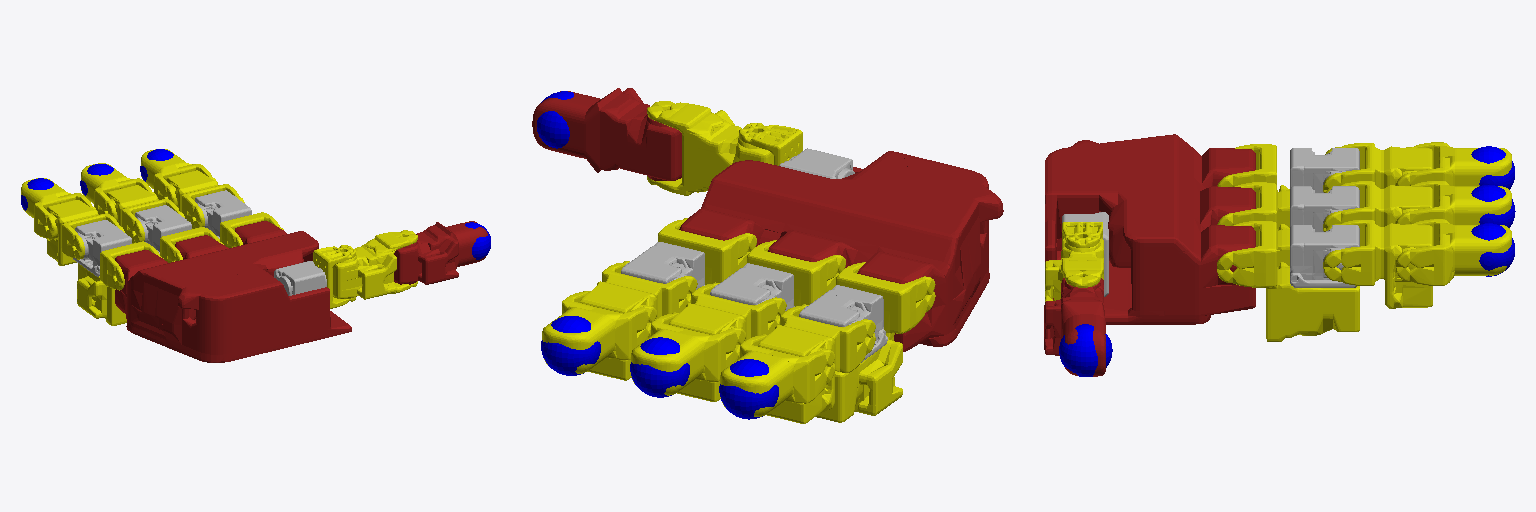
URDF robot description (onshape):
<robot name="onshape">
<link name="world"/>
<joint name="world_to_palm" type="fixed">
<parent link="world"/>
<child link="palm_lower"/>
<origin xyz="0.037 0.05 -0.037" rpy="-3.141592653589793 0 1.5707963267948966" />
</joint>


<link name="palm_lower">
<visual>
<origin xyz="-0.020095249652862544332 0.025757756134899473244 -0.034722403578460216134" rpy="0 -0 0" />
<geometry>
<mesh filename="palm_lower.obj"/>
</geometry>
<material name="palm_lower_material">
<color rgba="0.60392156862745094426 0.14901960784313725283 0.14901960784313725283 1.0"/>
</material>
</visual>
<collision>
<origin xyz="-0.020095249652862544332 0.025757756134899473244 -0.034722403578460216134" rpy="0 -0 0" />
<geometry>
<mesh filename="palm_lower.obj"/>
</geometry>
</collision>
<inertial>
<origin xyz="0 0 0" rpy="0 0 0"/>
<mass value="0.237" />
<inertia ixx="0.000354094" ixy="-0.000001193"  ixz="-0.000002445" iyy="0.000260915" iyz="-0.000002905" izz="0.000529257" />
</inertial>
</link>

<link name="mcp_joint">
<visual>
<origin xyz="0.0084069022611744960438 0.0077662438597169954416 0.014657354985032912051" rpy="1.6375789613220999807e-15 -1.0210473302491019535e-30 1.7177968783327987474e-31" />
<geometry>
<mesh filename="mcp_joint.obj"/>
</geometry>
<material name="mcp_joint_material">
<color rgba="0.86666666666666669627 0.86666666666666669627 0.050980392156862744391 1.0"/>
</material>
</visual>
<collision>
<origin xyz="0.0084069022611744960438 0.0077662438597169954416 0.014657354985032912051" rpy="1.6375789613220999807e-15 -1.0210473302491019535e-30 1.7177968783327987474e-31" />
<geometry>
<mesh filename="mcp_joint.obj"/>
</geometry>
</collision>
<inertial>
<origin xyz="0 0 0" rpy="0 0 0"/>
<mass value="0.044" />
<inertia ixx="0.000011499" ixy="0.000003049"  ixz="0.000000121" iyy="0.000007796" iyz="0.000000112" izz="0.000014759" />
</inertial>
</link>

<link name="pip">
<visual>
<origin xyz="0.0096433630922713280131 0.00029999999999998951117 0.00078403401041737645627" rpy="-1.570796326794896558 -1.570796326794896336 0" />
<geometry>
<mesh filename="pip.obj"/>
</geometry>
<material name="pip_material">
<color rgba="0.74901960784313725839 0.74901960784313725839 0.74901960784313725839 1.0"/>
</material>
</visual>
<collision>
<origin xyz="0.0096433630922713280131 0.00029999999999998951117 0.00078403401041737645627" rpy="-1.570796326794896558 -1.570796326794896336 0" />
<geometry>
<mesh filename="pip.obj"/>
</geometry>
</collision>
<inertial>
<origin xyz="0 0 0" rpy="0 0 0"/>
<mass value="0.032" />
<inertia ixx="0.000004798" ixy="0.000000012"  ixz="0.000000004" iyy="0.000002862" iyz="0.000000011" izz="0.000004234" />
</inertial>
</link>

<link name="dip">
<visual>
<origin xyz="0.021133352895225002849 -0.0084321191467048792201 0.0097850881620952408213" rpy="-3.141592653589793116 4.5075111242164408299e-32 4.4395481053923607589e-32" />
<geometry>
<mesh filename="dip.obj"/>
</geometry>
<material name="dip_material">
<color rgba="0.86666666666666669627 0.86666666666666669627 0.050980392156862744391 1.0"/>
</material>
</visual>
<collision>
<origin xyz="0.021133352895225002849 -0.0084321191467048792201 0.0097850881620952408213" rpy="-3.141592653589793116 4.5075111242164408299e-32 4.4395481053923607589e-32" />
<geometry>
<mesh filename="dip.obj"/>
</geometry>
</collision>
<inertial>
<origin xyz="0 0 0" rpy="0 0 0"/>
<mass value="0.037" />
<inertia ixx="0.000005542" ixy="-0.000000607"  ixz="-0.000000017" iyy="0.000005727" iyz="-0.000000023" izz="0.000006682" />
</inertial>
</link>

<link name="fingertip">
<visual>
<origin xyz="0.013286424108533503169 -0.0061142383865419869249 0.014499999999999497666" rpy="3.141592653589793116 1.1993117970061734707e-33 4.4395481053923607589e-32" />
<geometry>
<mesh filename="fingertip.obj"/>
</geometry>
<material name="fingertip_material">
<color rgba="0.86666666666666669627 0.86666666666666669627 0.050980392156862744391 1.0"/>
</material>
</visual>
<!-- <collision>
<origin xyz="0.013286424108533503169 -0.0061142383865419869249 0.014499999999999497666" rpy="3.141592653589793116 1.1993117970061734707e-33 4.4395481053923607589e-32" />
<geometry>
<mesh filename="fingertip.obj"/>
</geometry>
</collision> -->
<inertial>
<origin xyz="0 0 0" rpy="0 0 0"/>
<mass value="0.016" />
<inertia ixx="0.000003368" ixy="0.000000115"  ixz="0" iyy="0.000001556" iyz="0" izz="0.000002863" />
</inertial>
</link>

<joint name="0" type="revolute">
<origin xyz="-0.012200000000000007713 0.038099999999999994982 0.014500000000000000736" rpy="-1.570796326794896558 -1.0065212660796336576e-15 1.5707963267948943376" />
<parent link="mcp_joint" />
<child link="pip" />
<axis xyz="0 0 -1"/>
<limit effort="0.95" velocity="8.48" lower = "-1.047" upper = "1.047"/>
<joint_properties friction="0.0"/>
</joint>

<joint name="1" type="revolute">
<origin xyz="-0.0070952496528625457958 0.023057756134899472233 -0.01872240357846021927" rpy="1.5707963267948950037 1.5707963267948945596 0" />
<parent link="palm_lower" />
<child link="mcp_joint" />
<axis xyz="0 0 -1"/>
<limit effort="0.95" velocity="8.48" lower = "-0.314" upper = "2.23"/>
<joint_properties friction="0.0"/>
</joint>

<joint name="2" type="revolute">
<origin xyz="0.01499999999999996822 0.014299999999999904801 -0.012999999999999824196" rpy="1.5707963267948958919 -1.570796326794896336 0" />
<parent link="pip" />
<child link="dip" />
<axis xyz="0 0 -1"/>
<limit effort="0.95" velocity="8.48" lower = "-0.506" upper = "1.885"/>  
<joint_properties friction="0.0"/>
</joint>

<joint name="3" type="revolute">
<origin xyz="-4.0880582495572692636e-09 -0.036100004210367367397 0.00020000000000007858714" rpy="4.5935029425113685044e-17 -2.8730071914463794583e-16 4.4395481053923607589e-32" />
<parent link="dip" />
<child link="fingertip" />
<axis xyz="0 0 -1"/>
<limit effort="0.95" velocity="8.48" lower = "-0.366" upper = "2.042"/>   
<joint_properties friction="0.0"/>
</joint>


<link name="index_tip">
<visual>
<geometry>
<sphere radius="0.0134"/>
</geometry>
<material name="blue">
<color rgba="0.0 0.0 1.0 1.0"/>
</material>
</visual>
<collision>
<geometry>
<sphere radius="0.0134"/>
</geometry>
</collision>
<inertial>
<origin xyz="0 0 0" rpy="0 0 0"/>
<mass value="0.016" />
<inertia ixx="0.0" ixy="0.0"  ixz="0" iyy="0.0" iyz="0.0" izz="0.0" />
</inertial>
</link>

<joint name="index_tip_joint" type="fixed">
<parent link="fingertip"/>
<child link="index_tip"/>
<origin rpy="0 0 0" xyz="-0.0015 -0.0382 0.0145"/>
</joint>


<link name="mcp_joint_2">
<visual>
<origin xyz="0.0084069022611744960438 0.0077662438597169954416 0.014657354985032913786" rpy="1.6375789613220999807e-15 -1.0076465469034000467e-30 2.1209300131419907151e-61" />
<geometry>
<mesh filename="mcp_joint.obj"/>
</geometry>
<material name="mcp_joint_material">
<color rgba="0.86666666666666669627 0.86666666666666669627 0.050980392156862744391 1.0"/>
</material>
</visual>
<collision>
<origin xyz="0.0084069022611744960438 0.0077662438597169954416 0.014657354985032913786" rpy="1.6375789613220999807e-15 -1.0076465469034000467e-30 2.1209300131419907151e-61" />
<geometry>
<mesh filename="mcp_joint.obj"/>
</geometry>
</collision>
<inertial>
<origin xyz="0 0 0" rpy="0 0 0"/>
<mass value="0.044" />
<inertia ixx="0.000011499" ixy="0.000003049"  ixz="0.000000121" iyy="0.000007796" iyz="0.000000112" izz="0.000014759" />
</inertial>
</link>

<link name="pip_2">
<visual>
<origin xyz="0.0096433630922713280131 0.00029999999999999471534 0.00078403401041737645627" rpy="-1.570796326794896558 -1.570796326794896336 0" />
<geometry>
<mesh filename="pip.obj"/>
</geometry>
<material name="pip_material">
<color rgba="0.74901960784313725839 0.74901960784313725839 0.74901960784313725839 1.0"/>
</material>
</visual>
<collision>
<origin xyz="0.0096433630922713280131 0.00029999999999999471534 0.00078403401041737645627" rpy="-1.570796326794896558 -1.570796326794896336 0" />
<geometry>
<mesh filename="pip.obj"/>
</geometry>
</collision>
<inertial>
<origin xyz="0 0 0" rpy="0 0 0"/>
<mass value="0.032" />
<inertia ixx="0.000004798" ixy="0.000000012"  ixz="0.000000004" iyy="0.000002862" iyz="0.000000011" izz="0.000004234" />
</inertial>
</link>

<link name="dip_2">
<visual>
<origin xyz="0.021133352895225002849 -0.0084321191467048653423 0.0097850881620952373519" rpy="-3.141592653589793116 2.1146933785271955805e-32 1.4408183216511868558e-31" />
<geometry>
<mesh filename="dip.obj"/>
</geometry>
<material name="dip_material">
<color rgba="0.86666666666666669627 0.86666666666666669627 0.050980392156862744391 1.0"/>
</material>
</visual>
<collision>
<origin xyz="0.021133352895225002849 -0.0084321191467048653423 0.0097850881620952373519" rpy="-3.141592653589793116 2.1146933785271955805e-32 1.4408183216511868558e-31" />
<geometry>
<mesh filename="dip.obj"/>
</geometry>
</collision>
<inertial>
<origin xyz="0 0 0" rpy="0 0 0"/>
<mass value="0.037" />
<inertia ixx="0.000005542" ixy="-0.000000607"  ixz="-0.000000017" iyy="0.000005727" iyz="-0.000000023" izz="0.000006682" />
</inertial>
</link>

<link name="fingertip_2">
<visual>
<origin xyz="0.01328642410853349623 -0.0061142383865420008027 0.014499999999999495931" rpy="3.141592653589793116 -4.3179597882835943107e-33 1.4408183216511868558e-31" />
<geometry>
<mesh filename="fingertip.obj"/>
</geometry>
<material name="fingertip_material">
<color rgba="0.86666666666666669627 0.86666666666666669627 0.050980392156862744391 1.0"/>
</material>
</visual>
<!-- <collision>
<origin xyz="0.01328642410853349623 -0.0061142383865420008027 0.014499999999999495931" rpy="3.141592653589793116 -4.3179597882835943107e-33 1.4408183216511868558e-31" />
<geometry>
<mesh filename="fingertip.obj"/>
</geometry>
</collision> -->
<inertial>
<origin xyz="0 0 0" rpy="0 0 0"/>
<mass value="0.016" />
<inertia ixx="0.000003368" ixy="0.000000115"  ixz="0" iyy="0.000001556" iyz="0" izz="0.000002863" />
</inertial>
</link>

<joint name="4" type="revolute">
<origin xyz="-0.012200000000000019856 0.038099999999999981104 0.01450000000000000594" rpy="-1.570796326794896558 -1.0065212760057939085e-15 1.5707963267948943376" />
<parent link="mcp_joint_2" />
<child link="pip_2" />
<axis xyz="0 0 -1"/>
<limit effort="0.95" velocity="8.48" lower = "-1.047" upper = "1.047"/>
<joint_properties friction="0.0"/>
</joint>

<joint name="5" type="revolute">
<origin xyz="-0.0070952496528625388569 -0.022392243865100525113 -0.018722403578460229678" rpy="1.570796326794896558 1.570796326794896558 0" />
<parent link="palm_lower" />
<child link="mcp_joint_2" />
<axis xyz="0 0 -1"/>
<limit effort="0.95" velocity="8.48" lower = "-0.314" upper = "2.23"/>
<joint_properties friction="0.0"/>
</joint>

<joint name="6" type="revolute">
<origin xyz="0.014999999999999975159 0.014300000000000000211 -0.013000000000000018485" rpy="1.5707963267948958919 -1.570796326794896336 0" />
<parent link="pip_2" />
<child link="dip_2" />
<axis xyz="0 0 -1"/>
<limit effort="0.95" velocity="8.48" lower = "-0.506" upper = "1.885"/>  
<joint_properties friction="0.0"/>
</joint>

<joint name="7" type="revolute">
<origin xyz="1.0061396160665481148e-16 -0.036099999999999854428 0.00020000000000007858714" rpy="4.5935029425113654229e-17 -2.8730071914463794583e-16 1.4408183216511868558e-31" />
<parent link="dip_2" />
<child link="fingertip_2" />
<axis xyz="0 0 -1"/>
<limit effort="0.95" velocity="8.48" lower = "-0.366" upper = "2.042"/>   
<joint_properties friction="0.0"/>
</joint>


<link name="middle_tip">
<visual>
<geometry>
<sphere radius="0.0134"/>
</geometry>
<material name="blue">
<color rgba="0.0 0.0 1.0 1.0"/>
</material>
</visual>
<collision>
<geometry>
<sphere radius="0.0134"/>
</geometry>
</collision>
<inertial>
<origin xyz="0 0 0" rpy="0 0 0"/>
<mass value="0.016" />
<inertia ixx="0.0" ixy="0.0"  ixz="0" iyy="0.0" iyz="0.0" izz="0.0" />
</inertial>
</link>

<joint name="middle_tip_joint" type="fixed">
<parent link="fingertip_2"/>
<child link="middle_tip"/>
<origin rpy="0 0 0" xyz="-0.0015 -0.0382 0.0145"/>
</joint>


<link name="mcp_joint_3">
<visual>
<origin xyz="0.0084069022611744995133 0.0077662438597169963089 0.014657354985032913786" rpy="1.6375789613220999807e-15 -1.0059504988632626953e-30 5.729641584552035421e-32" />
<geometry>
<mesh filename="mcp_joint.obj"/>
</geometry>
<material name="mcp_joint_material">
<color rgba="0.86666666666666669627 0.86666666666666669627 0.050980392156862744391 1.0"/>
</material>
</visual>
<collision>
<origin xyz="0.0084069022611744995133 0.0077662438597169963089 0.014657354985032913786" rpy="1.6375789613220999807e-15 -1.0059504988632626953e-30 5.729641584552035421e-32" />
<geometry>
<mesh filename="mcp_joint.obj"/>
</geometry>
</collision>
<inertial>
<origin xyz="0 0 0" rpy="0 0 0"/>
<mass value="0.044" />
<inertia ixx="0.000011499" ixy="0.000003049"  ixz="0.000000121" iyy="0.000007796" iyz="0.000000112" izz="0.000014759" />
</inertial>
</link>

<link name="pip_3">
<visual>
<origin xyz="0.0096433630922713314826 0.00029999999999998083755 0.00078403401041737645627" rpy="-1.570796326794896558 -1.570796326794896336 0" />
<geometry>
<mesh filename="pip.obj"/>
</geometry>
<material name="pip_material">
<color rgba="0.74901960784313725839 0.74901960784313725839 0.74901960784313725839 1.0"/>
</material>
</visual>
<collision>
<origin xyz="0.0096433630922713314826 0.00029999999999998083755 0.00078403401041737645627" rpy="-1.570796326794896558 -1.570796326794896336 0" />
<geometry>
<mesh filename="pip.obj"/>
</geometry>
</collision>
<inertial>
<origin xyz="0 0 0" rpy="0 0 0"/>
<mass value="0.032" />
<inertia ixx="0.000004798" ixy="0.000000012"  ixz="0.000000004" iyy="0.000002862" iyz="0.000000011" izz="0.000004234" />
</inertial>
</link>

<link name="dip_3">
<visual>
<origin xyz="0.021133352895225006318 -0.0084321191467048653423 0.0097850881620952373519" rpy="-3.141592653589793116 -1.4095651113919093005e-33 1.5565411607615035382e-32" />
<geometry>
<mesh filename="dip.obj"/>
</geometry>
<material name="dip_material">
<color rgba="0.86666666666666669627 0.86666666666666669627 0.050980392156862744391 1.0"/>
</material>
</visual>
<collision>
<origin xyz="0.021133352895225006318 -0.0084321191467048653423 0.0097850881620952373519" rpy="-3.141592653589793116 -1.4095651113919093005e-33 1.5565411607615035382e-32" />
<geometry>
<mesh filename="dip.obj"/>
</geometry>
</collision>
<inertial>
<origin xyz="0 0 0" rpy="0 0 0"/>
<mass value="0.037" />
<inertia ixx="0.000005542" ixy="-0.000000607"  ixz="-0.000000017" iyy="0.000005727" iyz="-0.000000023" izz="0.000006682" />
</inertial>
</link>

<link name="fingertip_3">
<visual>
<origin xyz="0.013286424108533501434 -0.0061142383865419869249 0.0144999999999994994" rpy="3.141592653589793116 8.6170716950575402125e-33 1.5565411607615035382e-32" />
<geometry>
<mesh filename="fingertip.obj"/>
</geometry>
<material name="fingertip_material">
<color rgba="0.86666666666666669627 0.86666666666666669627 0.050980392156862744391 1.0"/>
</material>
</visual>
<!-- <collision>
<origin xyz="0.013286424108533501434 -0.0061142383865419869249 0.0144999999999994994" rpy="3.141592653589793116 8.6170716950575402125e-33 1.5565411607615035382e-32" />
<geometry>
<mesh filename="fingertip.obj"/>
</geometry>
</collision> -->
<inertial>
<origin xyz="0 0 0" rpy="0 0 0"/>
<mass value="0.016" />
<inertia ixx="0.000003368" ixy="0.000000115"  ixz="0" iyy="0.000001556" iyz="0" izz="0.000002863" />
</inertial>
</link>

<joint name="8" type="revolute">
<origin xyz="-0.012200000000000004244 0.038100000000000001921 0.014499999999999999001" rpy="-1.570796326794896558 -1.0065212660796360242e-15 1.5707963267948943376" />
<parent link="mcp_joint_3" />
<child link="pip_3" />
<axis xyz="0 0 -1"/>
<limit effort="0.95" velocity="8.48" lower = "-1.047" upper = "1.047"/>
<joint_properties friction="0.0"/>
</joint>

<joint name="9" type="revolute">
<origin xyz="-0.0070952454426398371343 -0.067842243865100515521 -0.018722407666402932774" rpy="1.5707963267948950037 1.5707963267948945596 0" />
<parent link="palm_lower" />
<child link="mcp_joint_3" />
<axis xyz="0 0 -1"/>
<limit effort="0.95" velocity="8.48" lower = "-0.314" upper = "2.23"/>
<joint_properties friction="0.0"/>
</joint>

<joint name="10" type="revolute">
<origin xyz="0.014999999999999971689 0.014299999999999951639 -0.012999999999999959505" rpy="1.5707963267948958919 -1.570796326794896336 0" />
<parent link="pip_3" />
<child link="dip_3" />
<axis xyz="0 0 -1"/>
<limit effort="0.95" velocity="8.48" lower = "-0.506" upper = "1.885"/>  
<joint_properties friction="0.0"/>
</joint>

<joint name="11" type="revolute">
<origin xyz="9.7144514654701197287e-17 -0.036099999999999868305 0.00020000000000007511769" rpy="4.5935029425113685044e-17 -2.8730071914463799514e-16 1.5565411607615035382e-32" />
<parent link="dip_3" />
<child link="fingertip_3" />
<axis xyz="0 0 -1"/>
<limit effort="0.95" velocity="8.48" lower = "-0.366" upper = "2.042"/>   
<joint_properties friction="0.0"/>
</joint>


<link name="ring_tip">
<visual>
<geometry>
<sphere radius="0.0134"/>
</geometry>
<material name="blue">
<color rgba="0.0 0.0 1.0 1.0"/>
</material>
</visual>
<collision>
<geometry>
<sphere radius="0.0134"/>
</geometry>
</collision>
<inertial>
<origin xyz="0 0 0" rpy="0 0 0"/>
<mass value="0.016" />
<inertia ixx="0.0" ixy="0.0"  ixz="0" iyy="0.0" iyz="0.0" izz="0.0" />
</inertial>
</link>

<joint name="ring_tip_joint" type="fixed">
<parent link="fingertip_3"/>
<child link="ring_tip"/>
<origin rpy="0 0 0" xyz="-0.0015 -0.0382 0.0145"/>
</joint>


<link name="pip_4">
<visual>
<origin xyz="-0.0053566369077286714317 0.00029999999999999991951 0.00078403401041737819099" rpy="-1.570796326794896558 -1.570796326794896336 0" />
<geometry>
<mesh filename="pip.obj"/>
</geometry>
<material name="pip_material">
<color rgba="0.74901960784313725839 0.74901960784313725839 0.74901960784313725839 1.0"/>
</material>
</visual>
<collision>
<origin xyz="-0.0053566369077286714317 0.00029999999999999991951 0.00078403401041737819099" rpy="-1.570796326794896558 -1.570796326794896336 0" />
<geometry>
<mesh filename="pip.obj"/>
</geometry>
</collision>
<inertial>
<origin xyz="0 0 0" rpy="0 0 0"/>
<mass value="0.032" />
<inertia ixx="0.000004798" ixy="0.000000012"  ixz="0.000000004" iyy="0.000002862" iyz="0.000000011" izz="0.000004234" />
</inertial>
</link>

<link name="thumb_pip">
<visual>
<origin xyz="0.011961920770611186859 -5.3082538364890297089e-16 -0.015852648956664199681" rpy="1.570796326794896558 1.6050198443300152637e-46 -3.9204996250525192755e-59" />
<geometry>
<mesh filename="thumb_pip.obj"/>
</geometry>
<material name="thumb_pip_material">
<color rgba="0.86666666666666669627 0.86666666666666669627 0.050980392156862744391 1.0"/>
</material>
</visual>
<collision>
<origin xyz="0.011961920770611186859 -5.3082538364890297089e-16 -0.015852648956664199681" rpy="1.570796326794896558 1.6050198443300152637e-46 -3.9204996250525192755e-59" />
<geometry>
<mesh filename="thumb_pip.obj"/>
</geometry>
</collision>
<inertial>
<origin xyz="0 0 0" rpy="0 0 0"/>
<mass value="0.003" />
<inertia ixx="0.000000593" ixy="0"  ixz="0" iyy="0.000000549" iyz="0" izz="0.000000224" />
</inertial>
</link>

<link name="thumb_dip">
<visual>
<origin xyz="0.043968715707239175439 0.057952952973709198625 -0.0086286764493694757122" rpy="1.9428902930940098942e-16 3.2751579226442200773e-15 1.1123758529657360012e-46" />
<geometry>
<mesh filename="thumb_dip.obj"/>
</geometry>
<material name="thumb_dip_material">
<color rgba="0.86666666666666669627 0.86666666666666669627 0.050980392156862744391 1.0"/>
</material>
</visual>
<collision>
<origin xyz="0.043968715707239175439 0.057952952973709198625 -0.0086286764493694757122" rpy="1.9428902930940098942e-16 3.2751579226442200773e-15 1.1123758529657360012e-46" />
<geometry>
<mesh filename="thumb_dip.obj"/>
</geometry>
</collision>
<inertial>
<origin xyz="0 0 0" rpy="0 0 0"/>
<mass value="0.038" />
<inertia ixx="0.000008474" ixy="0.000000241"  ixz="0.000000026" iyy="0.000003841" iyz="0.000000025" izz="0.000007679" />
</inertial>
</link>

<link name="thumb_fingertip">
<visual>
<origin xyz="0.062559538462667388381 0.078459682911396988469 0.048992911807332215068" rpy="4.3790577010156367543e-47 -3.3306690738754701143e-16 1.2042408677791935383e-46" />
<geometry>
<mesh filename="thumb_fingertip.obj"/>
</geometry>
<material name="thumb_fingertip_material">
<color rgba="0.60392156862745094426 0.14901960784313725283 0.14901960784313725283 1.0"/>
</material>
</visual>
<!-- <collision>
<origin xyz="0.062559538462667388381 0.078459682911396988469 0.048992911807332215068" rpy="4.3790577010156367543e-47 -3.3306690738754701143e-16 1.2042408677791935383e-46" />
<geometry>
<mesh filename="thumb_fingertip.obj"/>
</geometry>
</collision> -->
<inertial>
<origin xyz="0 0 0" rpy="0 0 0"/>
<mass value="0.049" />
<inertia ixx="0.000020372" ixy="-0.000000489"  ixz="-0.00000003" iyy="0.000004336" iyz="-0.000000097" izz="0.000019845" />
</inertial>
</link>

<joint name="12" type="revolute">
<origin xyz="-0.069395249652862533996 -0.0012422438651005258004 -0.021622403578460215601" rpy="-8.2381766464939424156e-17 1.5707963267948956698 0" />
<parent link="palm_lower" />
<child link="pip_4" />
<axis xyz="0 0 -1"/>
<limit effort="0.95" velocity="8.48" lower = "-0.349" upper = "2.094"/> 
<joint_properties friction="0.0"/>
</joint>

<joint name="13" type="revolute">
<origin xyz="-2.7755575615628913511e-17 0.014300000000000005415 -0.013000000000000011546" rpy="1.5707963267948958919 -1.570796326794896336 0" />
<parent link="pip_4" />
<child link="thumb_pip" />
<axis xyz="0 0 -1"/>
<limit effort="0.95" velocity="8.48" lower = "-0.47" upper = "2.443"/> 
<joint_properties friction="0.0"/>
</joint>

<joint name="14" type="revolute">
<origin xyz="0 0.014499999999999966041 -0.017000000000000053263" rpy="-1.570796326794896558 1.6050198443300131245e-46 -1.9721522630516624601e-31" />
<parent link="thumb_pip" />
<child link="thumb_dip" />
<axis xyz="0 0 -1"/>
<limit effort="0.95" velocity="8.48" lower = "-1.20" upper = "1.90"/> 
<joint_properties friction="0.0"/>
</joint>

<joint name="15" type="revolute">
<origin xyz="-1.249000902703301108e-16 0.046599999999999863753 0.00019999999999997710581" rpy="1.5063958491491781023e-44 5.4234187233935260503e-31 3.141592653589793116" />
<parent link="thumb_dip" />
<child link="thumb_fingertip" />
<axis xyz="0 0 -1"/>
<limit effort="0.95" velocity="8.48" lower = "-1.34" upper = "1.88"/> 
<joint_properties friction="0.0"/>
</joint>


<link name="thumb_tip">
<visual>
<geometry>
<sphere radius="0.0134"/>
</geometry>
<material name="blue">
<color rgba="0.0 0.0 1.0 1.0"/>
</material>
</visual>
<collision>
<geometry>
<sphere radius="0.0134"/>
</geometry>
</collision>
<inertial>
<origin xyz="0 0 0" rpy="0 0 0"/>
<mass value="0.016" />
<inertia ixx="0.0" ixy="0.0"  ixz="0" iyy="0.0" iyz="0.0" izz="0.0" />
</inertial>
</link>

<joint name="thumb_tip_joint" type="fixed">
<parent link="thumb_fingertip"/>
<child link="thumb_tip"/>
<origin rpy="0 0 0" xyz="-0.0015 -0.051 -0.0143"/>
</joint>


</robot>

--- Facts derived from the render (not from the file) ---
Views: 3 orthographic renders of the robot side by side, from view 1: azimuth 30°, elevation 25°; view 2: azimuth 150°, elevation 25°; view 3: azimuth 270°, elevation 25°.
Model onshape with 22 links and 21 joints (16 revolute, 5 fixed), rooted at world, posed every joint at zero.
Visible links, largest first — view 1: palm_lower, thumb_fingertip, thumb_dip, mcp_joint_3, dip_3, dip_2, dip, fingertip_3, pip_3, fingertip_2, fingertip, pip (+5 smaller); view 2: palm_lower, thumb_fingertip, mcp_joint_3, thumb_dip, dip_3, fingertip_3, dip_2, dip, fingertip_2, fingertip, pip_3, mcp_joint (+9 smaller); view 3: palm_lower, mcp_joint, dip, fingertip, thumb_fingertip, pip, dip_2, dip_3, fingertip_2, fingertip_3, thumb_dip, pip_2 (+9 smaller).
Link boxes in pixels (bbox=[...]): palm_lower: bbox=[115, 221, 351, 362]; thumb_fingertip: bbox=[394, 221, 487, 284]; thumb_dip: bbox=[333, 230, 417, 299]; mcp_joint_3: bbox=[77, 241, 163, 325]; dip_3: bbox=[47, 200, 124, 265]; dip_2: bbox=[107, 185, 184, 243]; dip: bbox=[167, 170, 244, 228]; fingertip_3: bbox=[21, 178, 95, 239]; pip_3: bbox=[73, 220, 131, 276]; fingertip_2: bbox=[81, 163, 155, 219]; fingertip: bbox=[141, 149, 215, 205]; pip: bbox=[195, 190, 251, 238]; palm_lower: bbox=[679, 151, 1003, 351]; thumb_fingertip: bbox=[532, 88, 681, 180]; mcp_joint_3: bbox=[816, 262, 935, 422]; thumb_dip: bbox=[647, 101, 773, 195]; dip_3: bbox=[758, 304, 875, 423]; fingertip_3: bbox=[720, 334, 834, 416]; dip_2: bbox=[669, 282, 786, 401]; dip: bbox=[580, 261, 697, 380]; fingertip_2: bbox=[631, 312, 745, 395]; fingertip: bbox=[542, 291, 656, 373]; pip_3: bbox=[799, 285, 887, 362]; mcp_joint: bbox=[658, 218, 756, 284]; palm_lower: bbox=[1045, 134, 1255, 324]; mcp_joint: bbox=[1217, 221, 1359, 341]; dip: bbox=[1323, 220, 1432, 308]; fingertip: bbox=[1395, 219, 1511, 285]; thumb_fingertip: bbox=[1044, 278, 1105, 376]; pip: bbox=[1290, 225, 1359, 287]; dip_2: bbox=[1323, 181, 1432, 231]; dip_3: bbox=[1323, 143, 1432, 192]; fingertip_2: bbox=[1396, 181, 1511, 224]; fingertip_3: bbox=[1396, 142, 1511, 185]; thumb_dip: bbox=[1045, 238, 1103, 301]; pip_2: bbox=[1290, 186, 1359, 231].
Size in the robot's own frame: 0.2425 by 0.2353 by 0.0642 metres.
Meshes: 8 distinct files referenced, 17 mesh visuals loaded (8 OBJ).